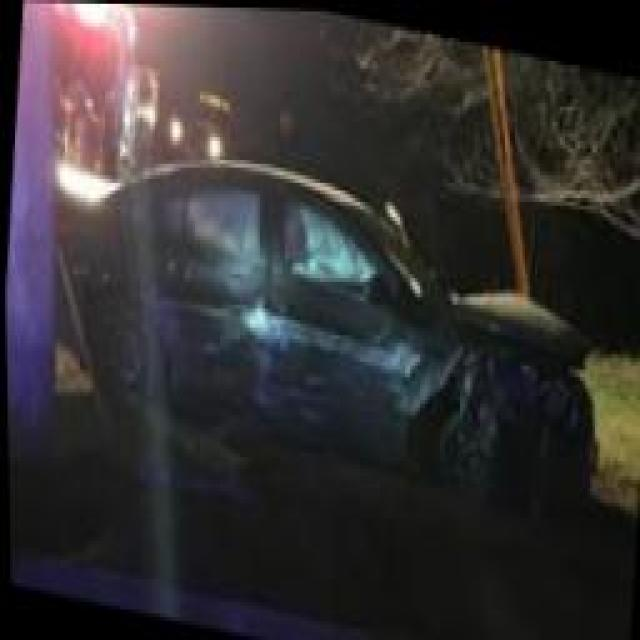Bonnet: (445, 288, 584, 364)
Bumper: (489, 369, 595, 497)
Door: (258, 183, 423, 469)
Fender: (402, 308, 533, 414)
